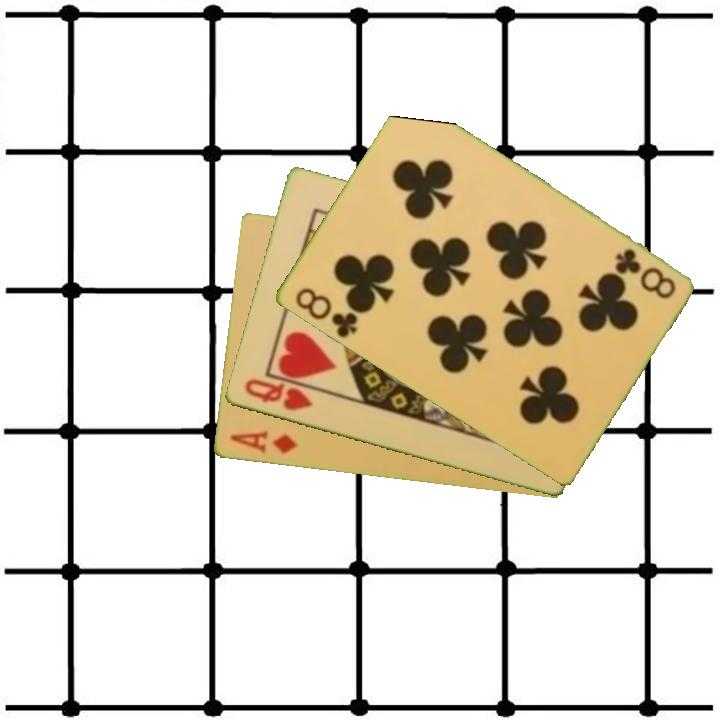8c: (610, 244, 679, 303), (291, 284, 360, 342)
Ad: (226, 427, 300, 458)
Qh: (240, 375, 315, 415)
